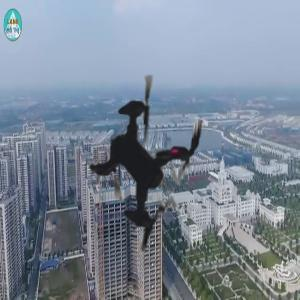drone: (24, 42, 271, 289)
